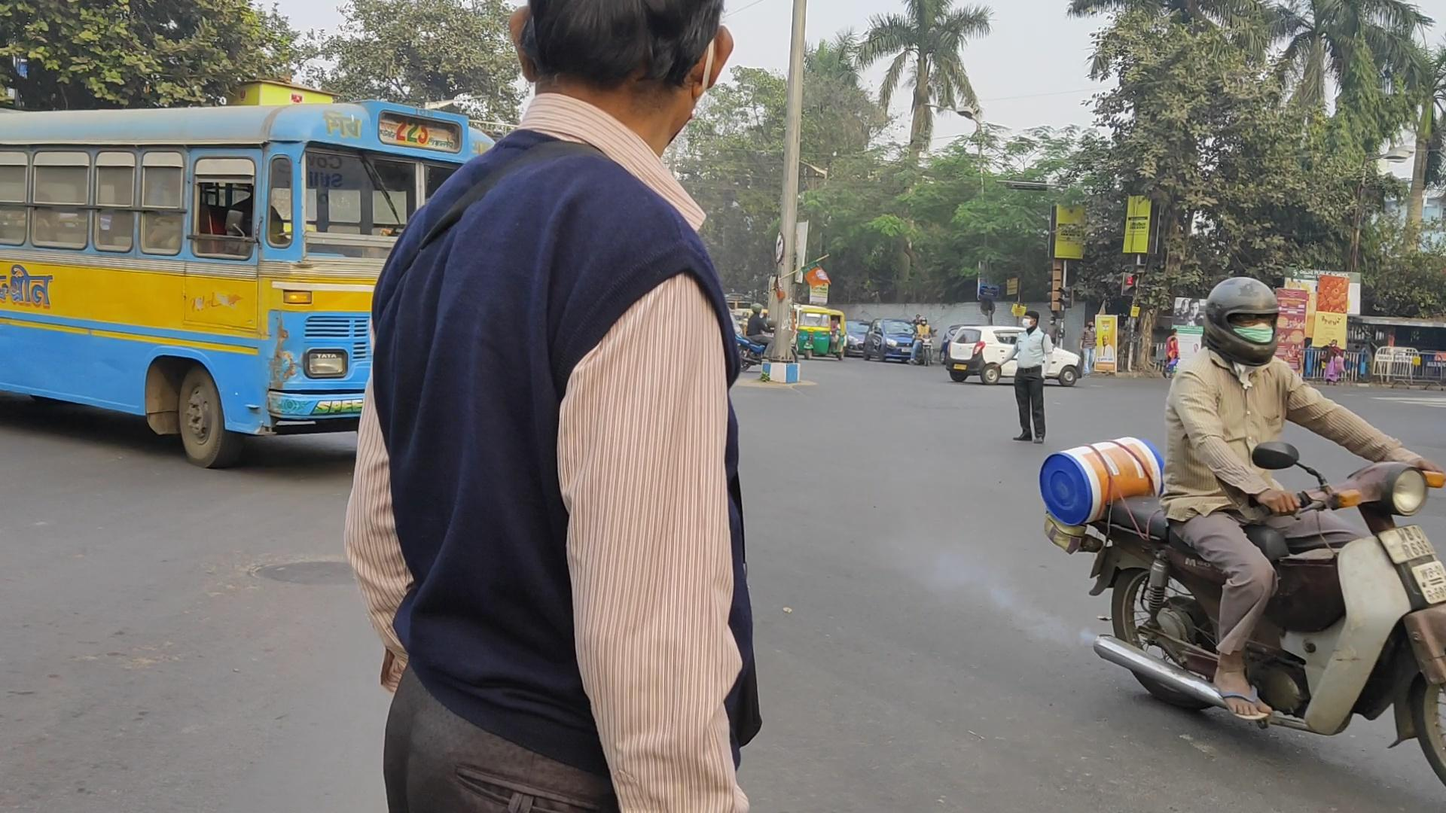Auto: (796, 306, 847, 362)
Bus: (2, 99, 513, 469)
bike: (1042, 276, 1446, 798), (737, 303, 797, 373), (909, 316, 938, 367)
car: (945, 324, 1081, 387), (863, 319, 923, 364)
